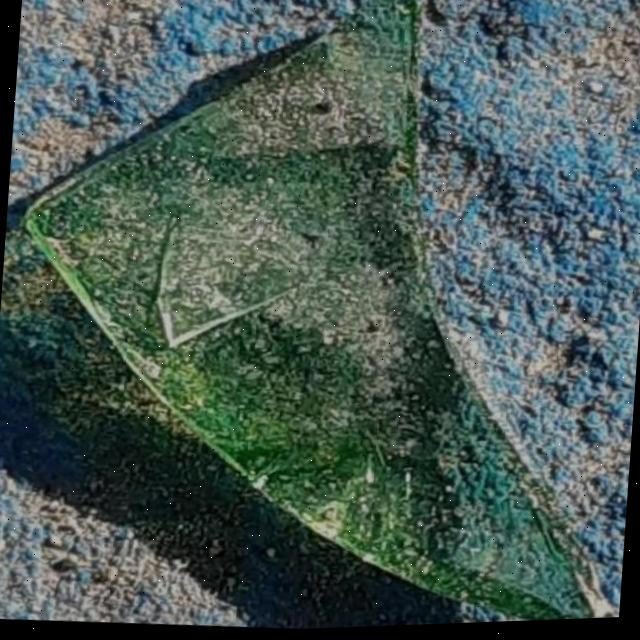Dry: (165, 204, 428, 488), (0, 93, 244, 359), (235, 3, 405, 226), (272, 351, 467, 534), (390, 480, 598, 629)
